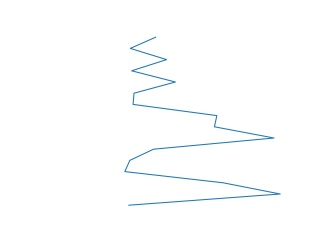majorRiverBedLagDeposit: (123, 36, 281, 208)
